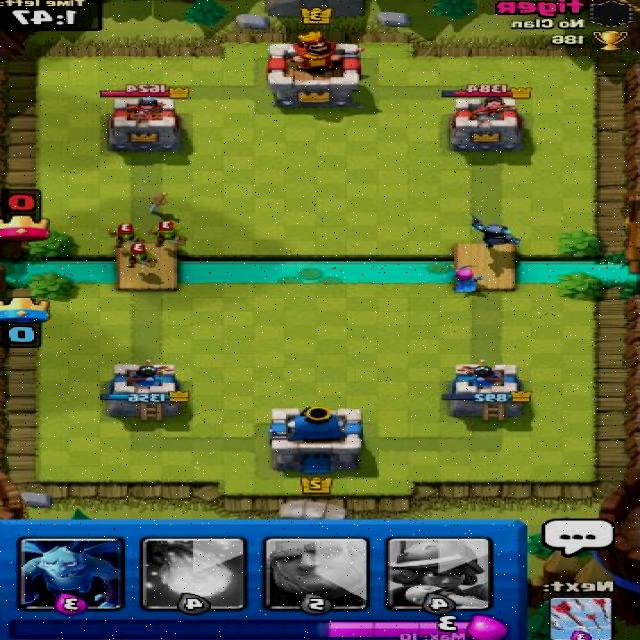Enemy-Goblin: (145, 220, 188, 250), (104, 220, 146, 250), (118, 243, 159, 270)
Enemy-MiniPEKKA: (463, 212, 526, 252)
Player-Archer: (444, 262, 486, 295)
